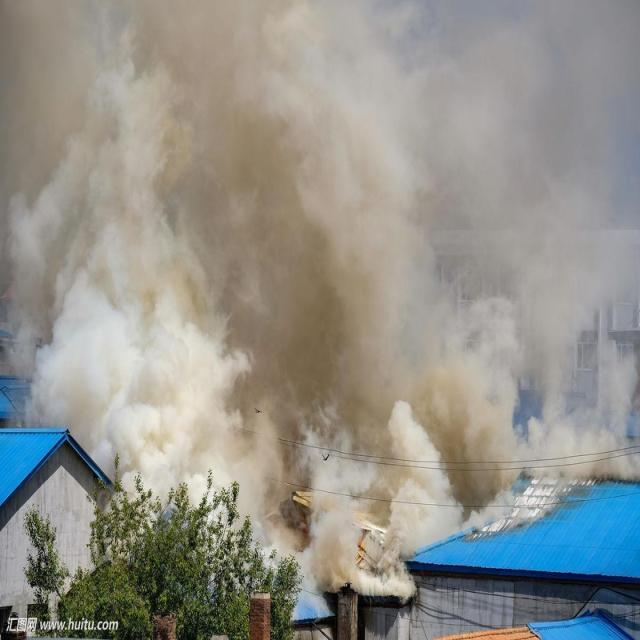Smoke: (0, 0, 464, 598), (337, 0, 640, 537)
